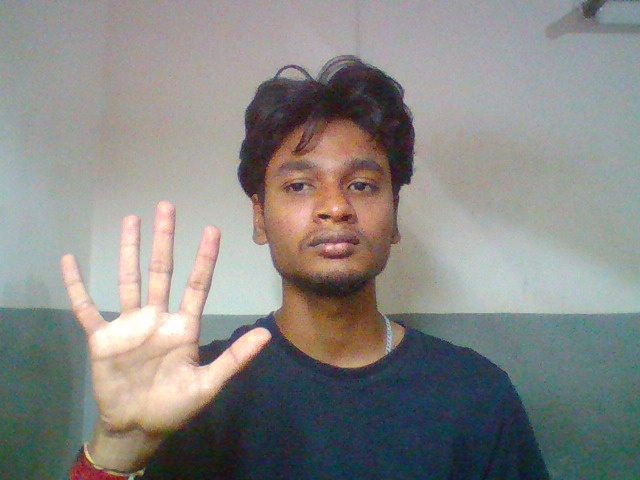Hello: (48, 189, 284, 460)
